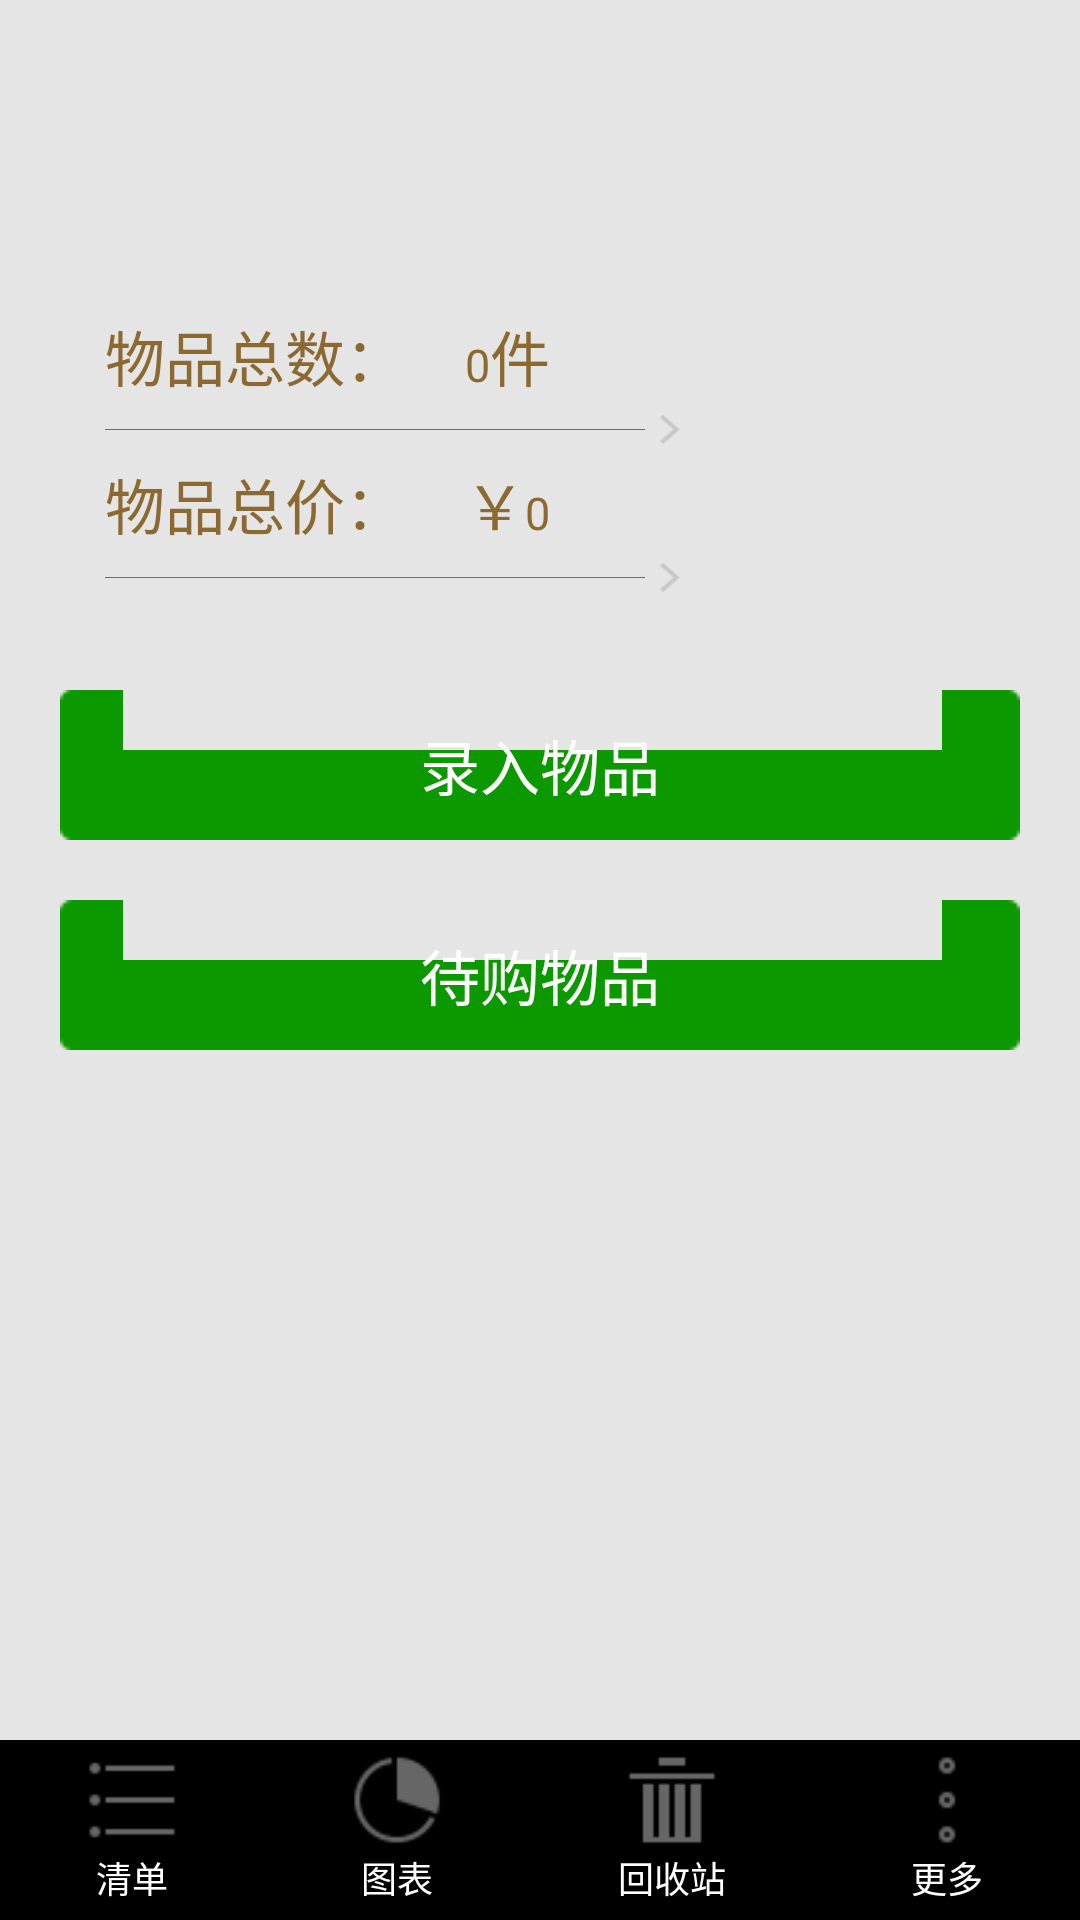

Screen size 1080*1920. Icon name, then its box in pixels as (x1, y1, x2, y2):
bottom census: (354, 1757, 440, 1843)
bottom classify: (89, 1762, 175, 1838)
bottom delete: (629, 1757, 715, 1843)
